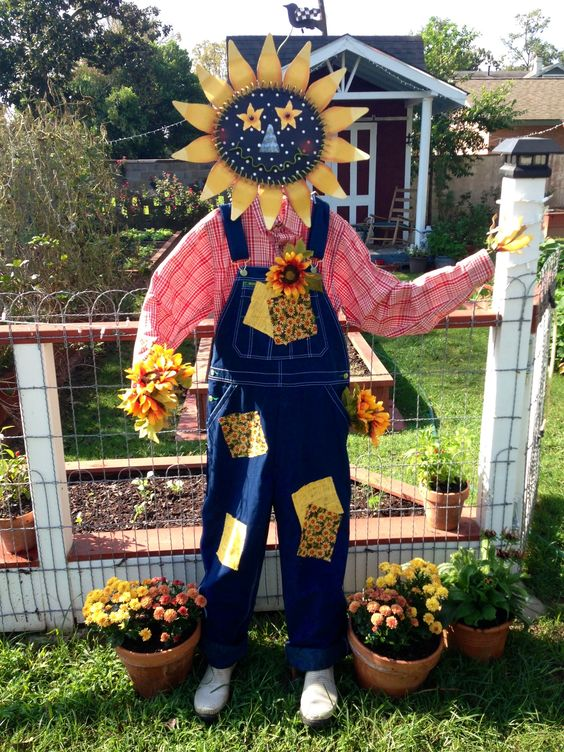person-like: (119, 46, 520, 729)
